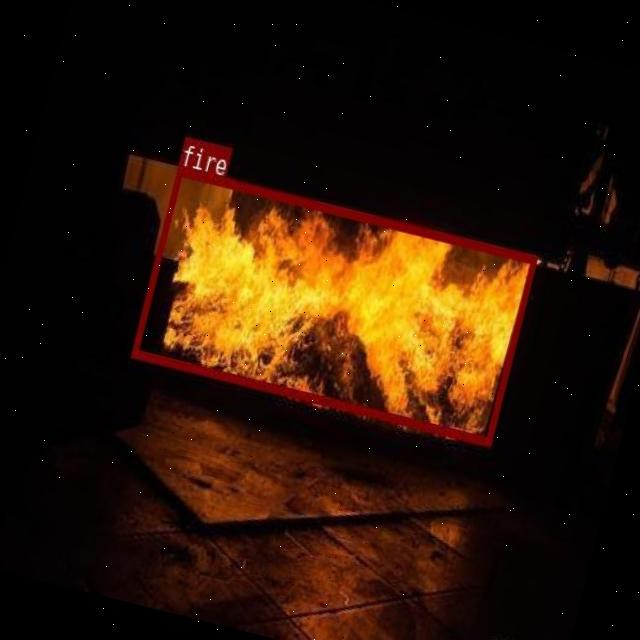fire: (130, 164, 536, 444)
